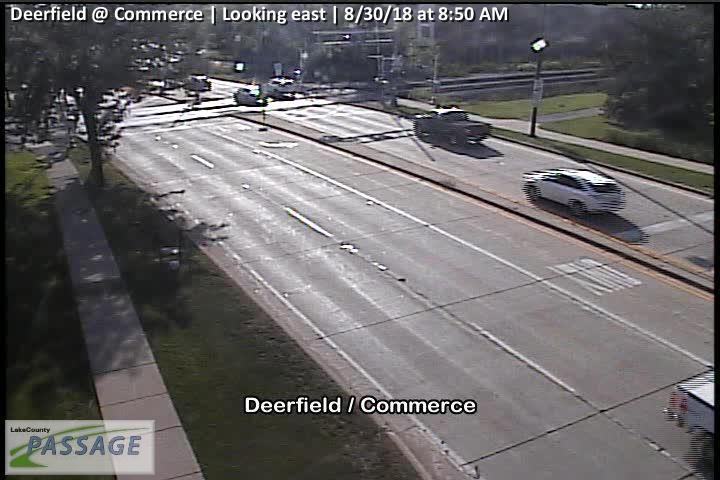Sedan: (521, 168, 623, 215), (261, 78, 296, 98), (234, 88, 267, 106), (184, 75, 210, 91)
Truck: (412, 108, 490, 148)
